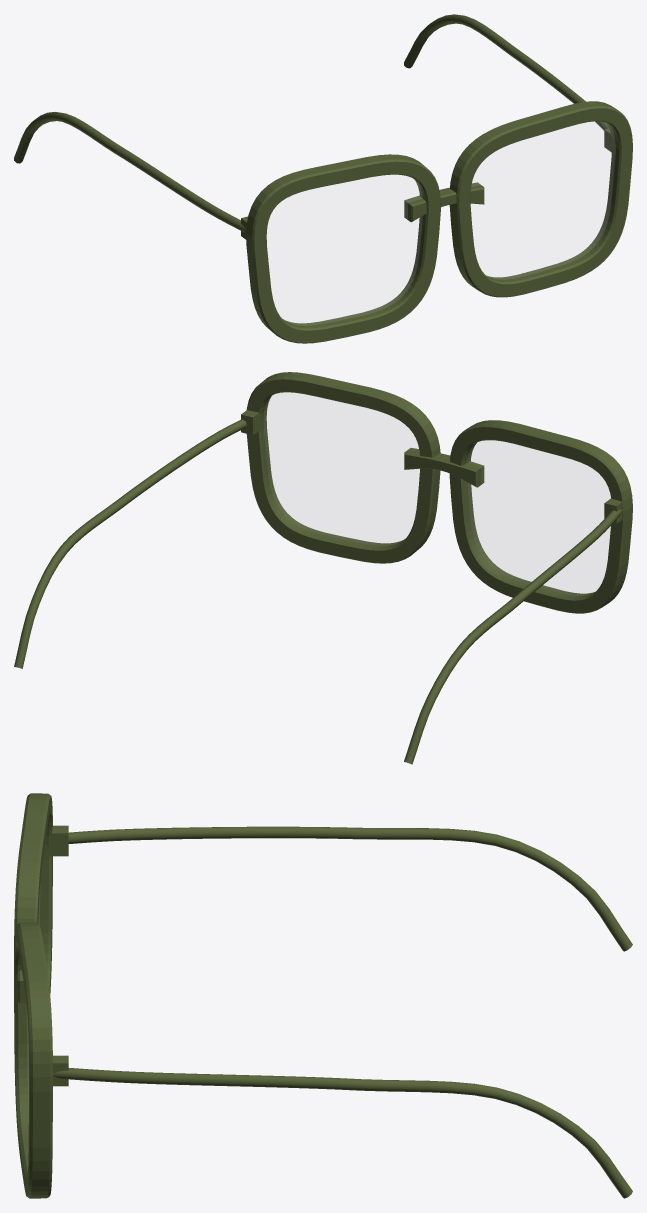
The model's file is NY-W03_Opal_Olive.glb.
The picture shows the model from 3 angles, top to bottom: view 1: azimuth 30°, elevation 25°; view 2: azimuth 150°, elevation 25°; view 3: azimuth 270°, elevation 25°; orthographic projection. The views are drawn at different scales.
Parts seen in each view (by area): view 1: Opal_Olive_Lenses, Opal_Olive_Acetate; view 2: Opal_Olive_Lenses, Opal_Olive_Acetate; view 3: Opal_Olive_Acetate.
Part boxes in pixels (left/top/right/bottom): Opal_Olive_Lenses: left=267, top=122, right=614, bottom=325; Opal_Olive_Acetate: left=14, top=14, right=632, bottom=343; Opal_Olive_Lenses: left=264, top=393, right=610, bottom=595; Opal_Olive_Acetate: left=14, top=372, right=632, bottom=764; Opal_Olive_Acetate: left=14, top=793, right=632, bottom=1198.
Bounding box in the file's own units: 0.1465 × 0.0585 × 0.1484.
